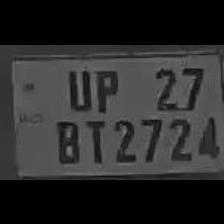2: (107, 114, 136, 162), (163, 114, 192, 162), (149, 64, 178, 110)
4: (195, 111, 220, 158)
7: (175, 60, 203, 110), (136, 113, 164, 163)
B: (52, 115, 82, 163)
P: (90, 64, 120, 110)
T: (81, 115, 107, 163)
U: (62, 64, 92, 110)
